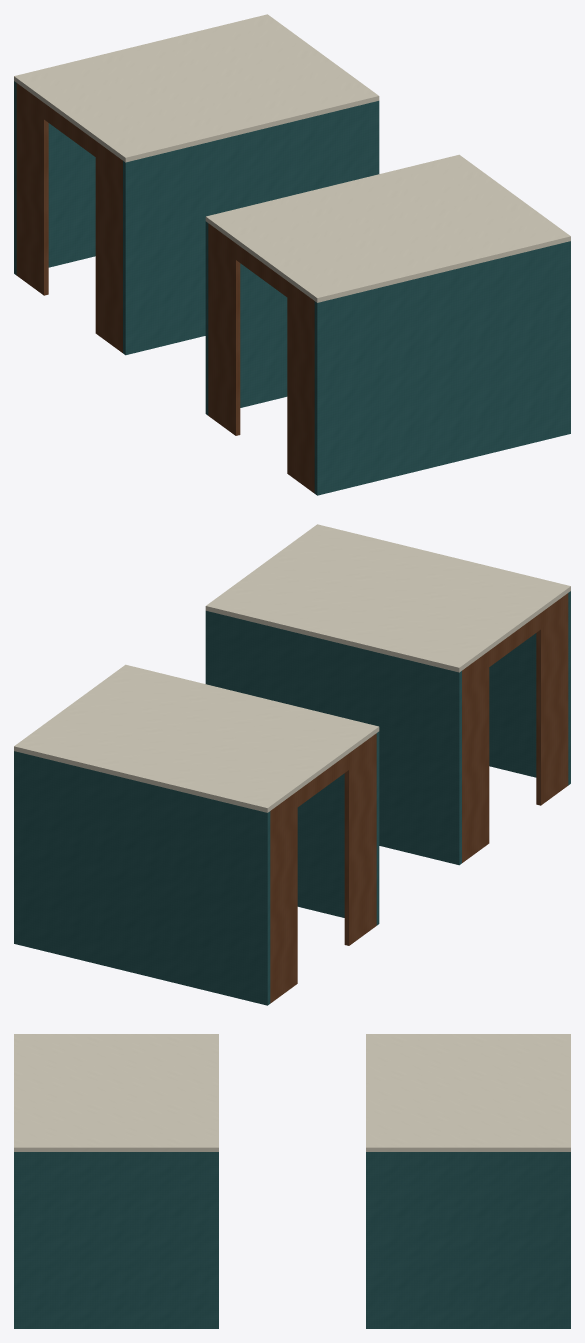
Rendered from QuietGroveEnclosure_391_r002.glb.
3 renders of one model, top to bottom at view 1: azimuth 30°, elevation 25°; view 2: azimuth 150°, elevation 25°; view 3: azimuth 270°, elevation 25°, orthographic. The views are drawn at different scales.
Parts seen in each view (by area): view 1: QG391_Cocoon01_LeftLiner, QG391_Cocoon02_Roof, QG391_Cocoon01_Roof, QG391_Cocoon02_LeftLiner, QG391_Cocoon01_RightLiner, QG391_Cocoon02_RightLiner, QG391_Cocoon02_FrontRightJamb, QG391_Cocoon01_FrontRightJamb, QG391_Cocoon01_FrontLeftJamb, QG391_Cocoon02_FrontLeftJamb, QG391_Cocoon02_DoorHeader, QG391_Cocoon01_DoorHeader; view 2: QG391_Cocoon02_RightLiner, QG391_Cocoon01_Roof, QG391_Cocoon02_Roof, QG391_Cocoon01_RightLiner, QG391_Cocoon02_LeftLiner, QG391_Cocoon01_LeftLiner, QG391_Cocoon01_FrontLeftJamb, QG391_Cocoon02_FrontLeftJamb, QG391_Cocoon02_FrontRightJamb, QG391_Cocoon01_FrontRightJamb, QG391_Cocoon01_DoorHeader, QG391_Cocoon02_DoorHeader; view 3: QG391_Cocoon01_RearLiner, QG391_Cocoon02_RearLiner, QG391_Cocoon01_Roof, QG391_Cocoon02_Roof, QG391_Cocoon01_LeftLiner, QG391_Cocoon01_RightLiner, QG391_Cocoon02_LeftLiner, QG391_Cocoon02_RightLiner.
Boxes of the visible parts, x1=… form: QG391_Cocoon01_LeftLiner: x1=314, y1=241, x2=570, y2=495; QG391_Cocoon02_Roof: x1=14, y1=14, x2=379, y2=162; QG391_Cocoon01_Roof: x1=205, y1=154, x2=570, y2=302; QG391_Cocoon02_LeftLiner: x1=123, y1=101, x2=379, y2=355; QG391_Cocoon01_RightLiner: x1=205, y1=221, x2=287, y2=415; QG391_Cocoon02_RightLiner: x1=14, y1=81, x2=95, y2=275; QG391_Cocoon02_FrontRightJamb: x1=16, y1=83, x2=48, y2=295; QG391_Cocoon01_FrontRightJamb: x1=208, y1=223, x2=240, y2=435; QG391_Cocoon01_FrontLeftJamb: x1=287, y1=281, x2=314, y2=493; QG391_Cocoon02_FrontLeftJamb: x1=95, y1=141, x2=122, y2=352; QG391_Cocoon02_DoorHeader: x1=44, y1=103, x2=95, y2=156; QG391_Cocoon01_DoorHeader: x1=236, y1=243, x2=287, y2=296; QG391_Cocoon02_RightLiner: x1=14, y1=751, x2=270, y2=1005; QG391_Cocoon01_Roof: x1=205, y1=524, x2=570, y2=672; QG391_Cocoon02_Roof: x1=14, y1=664, x2=379, y2=812; QG391_Cocoon01_RightLiner: x1=205, y1=611, x2=461, y2=865; QG391_Cocoon02_LeftLiner: x1=297, y1=731, x2=379, y2=925; QG391_Cocoon01_LeftLiner: x1=489, y1=591, x2=570, y2=785; QG391_Cocoon01_FrontLeftJamb: x1=536, y1=593, x2=568, y2=805; QG391_Cocoon02_FrontLeftJamb: x1=344, y1=733, x2=376, y2=945; QG391_Cocoon02_FrontRightJamb: x1=270, y1=791, x2=297, y2=1003; QG391_Cocoon01_FrontRightJamb: x1=462, y1=651, x2=489, y2=862; QG391_Cocoon01_DoorHeader: x1=489, y1=613, x2=540, y2=666; QG391_Cocoon02_DoorHeader: x1=297, y1=753, x2=348, y2=806; QG391_Cocoon01_RearLiner: x1=18, y1=1152, x2=213, y2=1328; QG391_Cocoon02_RearLiner: x1=371, y1=1152, x2=566, y2=1328; QG391_Cocoon01_Roof: x1=14, y1=1034, x2=218, y2=1151; QG391_Cocoon02_Roof: x1=366, y1=1034, x2=570, y2=1151; QG391_Cocoon01_LeftLiner: x1=14, y1=1152, x2=18, y2=1328; QG391_Cocoon01_RightLiner: x1=214, y1=1152, x2=218, y2=1328; QG391_Cocoon02_LeftLiner: x1=366, y1=1152, x2=370, y2=1328; QG391_Cocoon02_RightLiner: x1=566, y1=1152, x2=570, y2=1328.
Size of the model in its own units: 3.36 by 2.5 by 6.96.
Materials: 3 (3 with a texture image).
